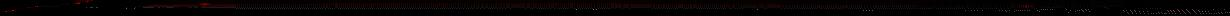Blue cone: (74, 2, 81, 4), (27, 7, 33, 8)
Yellow cone: (1014, 5, 1034, 8), (199, 3, 210, 7)
